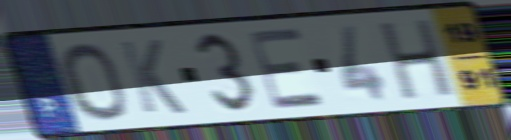3: (194, 28, 258, 118)
4: (338, 22, 390, 105)
E: (245, 25, 329, 112)
H: (377, 15, 457, 104)
K: (116, 37, 190, 117)
O: (56, 40, 131, 123)
